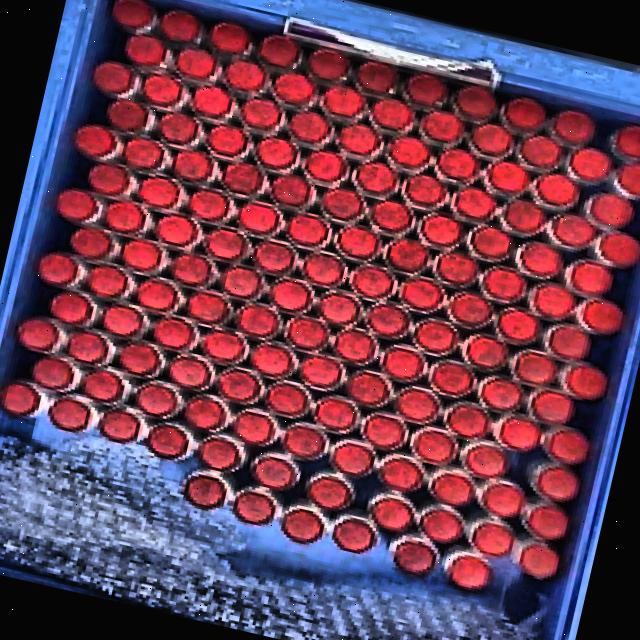vial: (376, 452, 425, 493), (331, 511, 378, 553), (264, 379, 313, 419), (450, 84, 498, 124), (521, 501, 569, 541), (328, 437, 376, 477), (445, 290, 494, 329), (590, 230, 640, 268), (541, 322, 591, 360), (208, 20, 254, 61), (345, 369, 393, 408), (465, 224, 514, 262), (158, 8, 205, 47), (574, 297, 622, 335), (431, 250, 479, 288), (476, 374, 524, 412), (541, 427, 589, 465), (234, 302, 283, 339), (102, 302, 151, 339), (299, 353, 346, 391), (306, 47, 351, 86), (394, 386, 440, 423), (444, 402, 491, 438), (497, 307, 540, 344), (536, 465, 579, 502), (517, 542, 560, 579), (404, 72, 448, 108), (563, 364, 607, 400), (413, 319, 458, 354), (117, 341, 162, 376), (532, 283, 575, 319), (465, 334, 508, 370), (551, 109, 595, 144), (589, 193, 634, 227), (316, 291, 361, 325), (530, 389, 575, 423), (498, 415, 540, 451), (55, 187, 98, 222), (448, 555, 491, 590), (273, 72, 317, 106), (551, 214, 595, 248), (204, 227, 248, 261), (220, 265, 264, 299), (170, 252, 214, 286), (66, 330, 110, 364), (167, 355, 211, 389), (306, 476, 350, 510), (534, 173, 579, 206), (92, 60, 134, 95), (393, 540, 435, 575), (355, 61, 398, 95), (568, 147, 611, 181), (338, 122, 381, 156), (386, 238, 429, 272), (252, 240, 295, 274), (420, 110, 464, 143), (370, 98, 414, 131), (236, 202, 280, 235), (186, 291, 230, 324), (258, 34, 300, 68), (333, 329, 375, 363), (146, 424, 188, 458), (371, 497, 413, 531), (503, 97, 546, 130), (519, 135, 562, 168), (470, 123, 513, 156), (224, 60, 267, 93), (124, 34, 167, 67), (503, 199, 546, 232), (304, 150, 347, 183), (255, 137, 298, 170), (321, 187, 364, 220), (87, 163, 130, 196), (399, 277, 442, 310), (202, 329, 245, 362), (48, 291, 91, 324), (464, 444, 507, 477), (486, 161, 530, 193), (0, 381, 40, 416), (142, 73, 183, 107), (454, 185, 495, 219), (432, 472, 473, 506), (157, 112, 199, 145), (106, 99, 148, 132), (221, 162, 263, 195), (366, 304, 408, 337), (432, 362, 474, 395), (183, 397, 225, 430), (471, 522, 513, 555), (233, 491, 275, 524), (174, 48, 217, 80), (436, 148, 479, 180), (269, 174, 312, 206), (137, 176, 180, 208), (269, 279, 312, 311), (322, 85, 366, 116), (288, 110, 329, 143), (389, 135, 430, 168), (405, 173, 446, 206), (521, 242, 562, 275), (483, 267, 524, 300), (37, 252, 78, 285), (482, 484, 523, 517), (282, 509, 323, 542), (184, 475, 225, 508), (356, 162, 398, 194), (206, 125, 248, 157), (570, 263, 612, 295), (337, 226, 379, 258), (155, 214, 197, 246), (302, 253, 344, 285), (351, 266, 393, 298), (514, 352, 556, 384), (86, 265, 128, 297), (31, 356, 73, 388), (192, 85, 232, 118), (241, 97, 281, 130), (99, 409, 139, 442), (420, 509, 460, 542), (74, 124, 115, 156), (123, 138, 164, 170), (173, 150, 214, 182), (421, 214, 462, 246), (287, 214, 328, 246), (188, 189, 229, 221), (287, 317, 328, 349), (153, 317, 194, 349), (218, 369, 259, 401), (136, 384, 177, 416), (120, 240, 162, 271), (69, 228, 111, 259), (365, 415, 404, 448), (416, 430, 455, 463), (251, 343, 291, 375), (253, 457, 293, 489), (371, 200, 412, 231), (135, 279, 176, 310), (82, 370, 123, 401), (198, 438, 239, 469), (50, 398, 89, 430), (105, 201, 145, 232), (283, 426, 323, 457), (232, 413, 272, 444), (383, 347, 422, 378), (315, 399, 355, 429), (20, 318, 57, 350), (111, 0, 153, 28), (610, 163, 640, 199), (614, 124, 640, 159)
